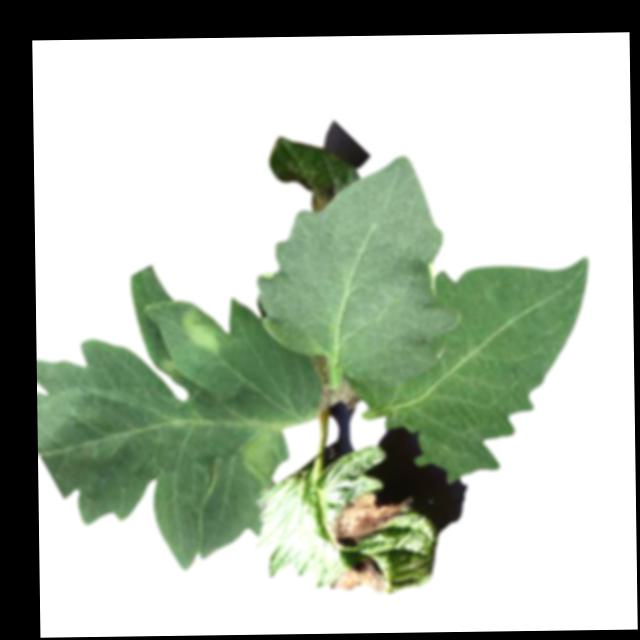Late_blight: (330, 487, 413, 546), (239, 415, 285, 486), (317, 352, 360, 408), (181, 302, 224, 357), (329, 557, 389, 595), (298, 180, 338, 211)
